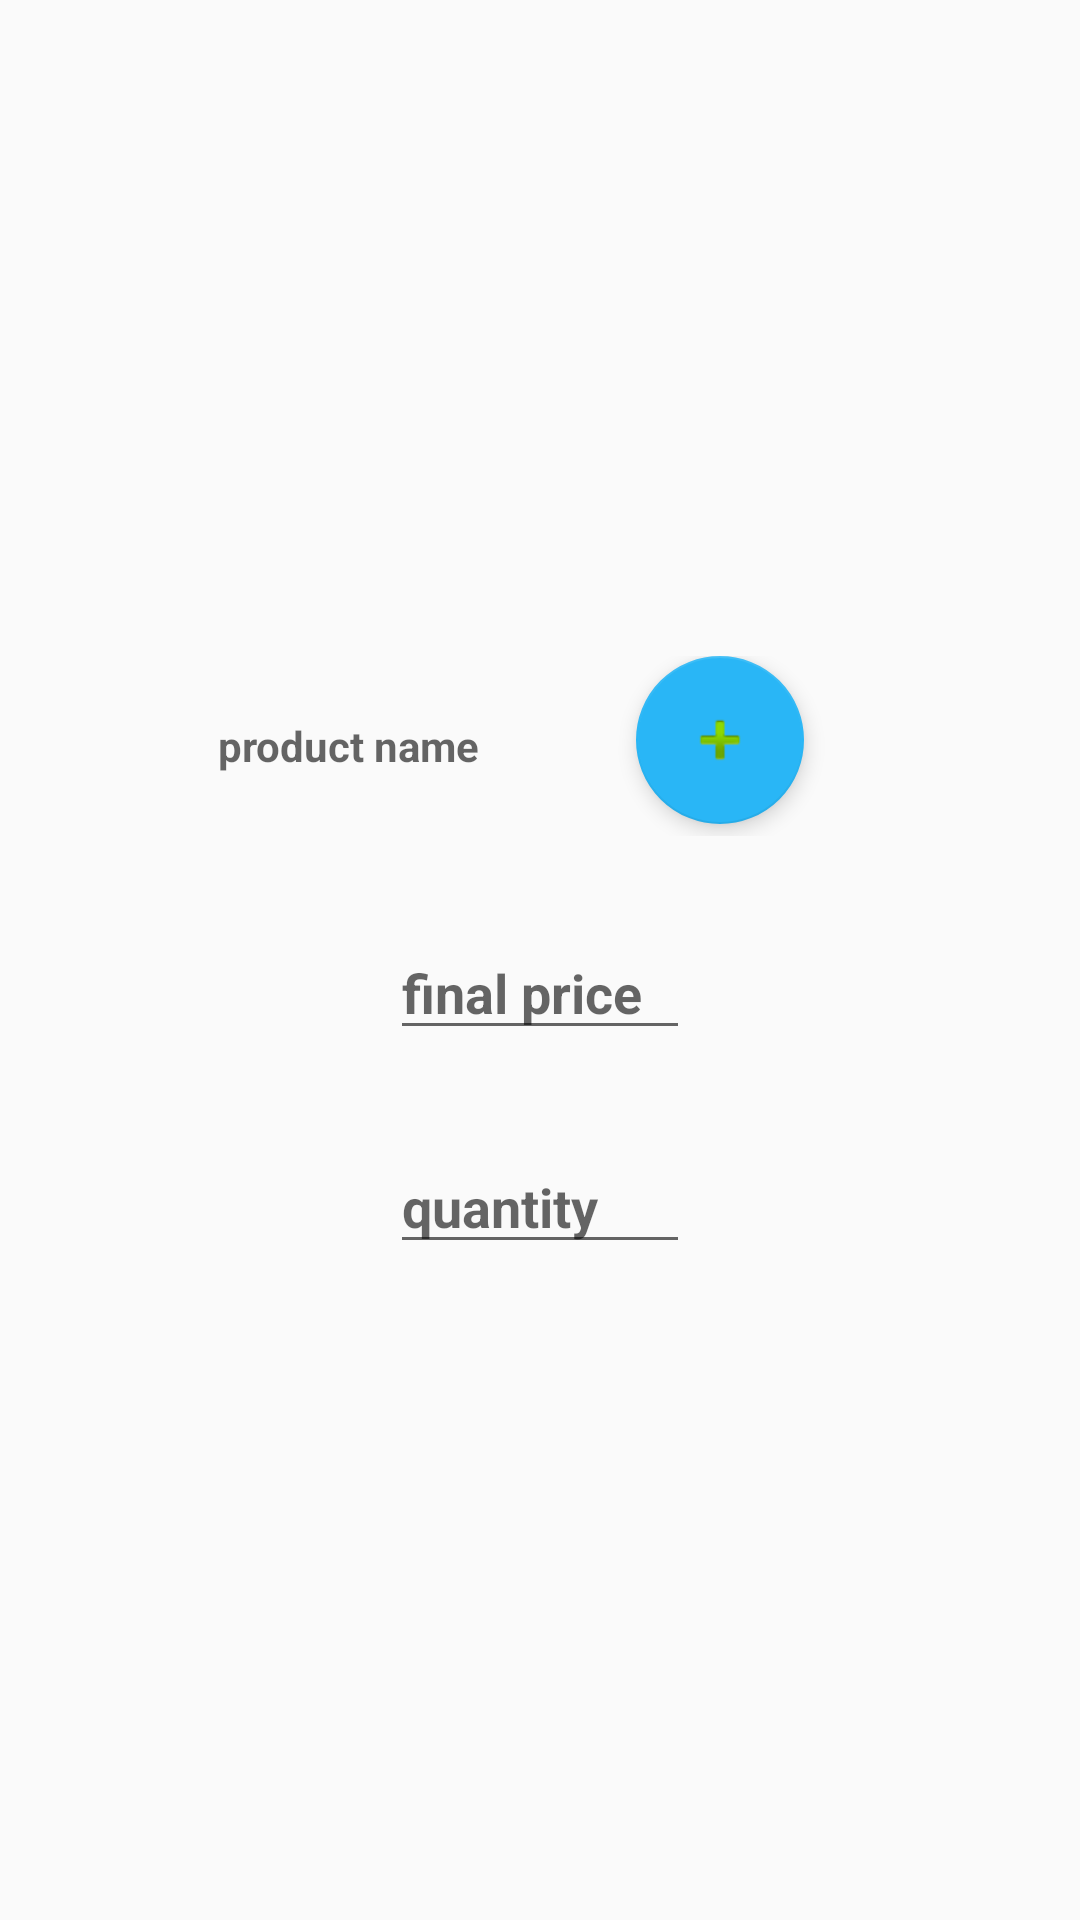

Screen size 1080*1920. Icon name, then its center in pixels as point (x, y):
add: point (720, 740)
